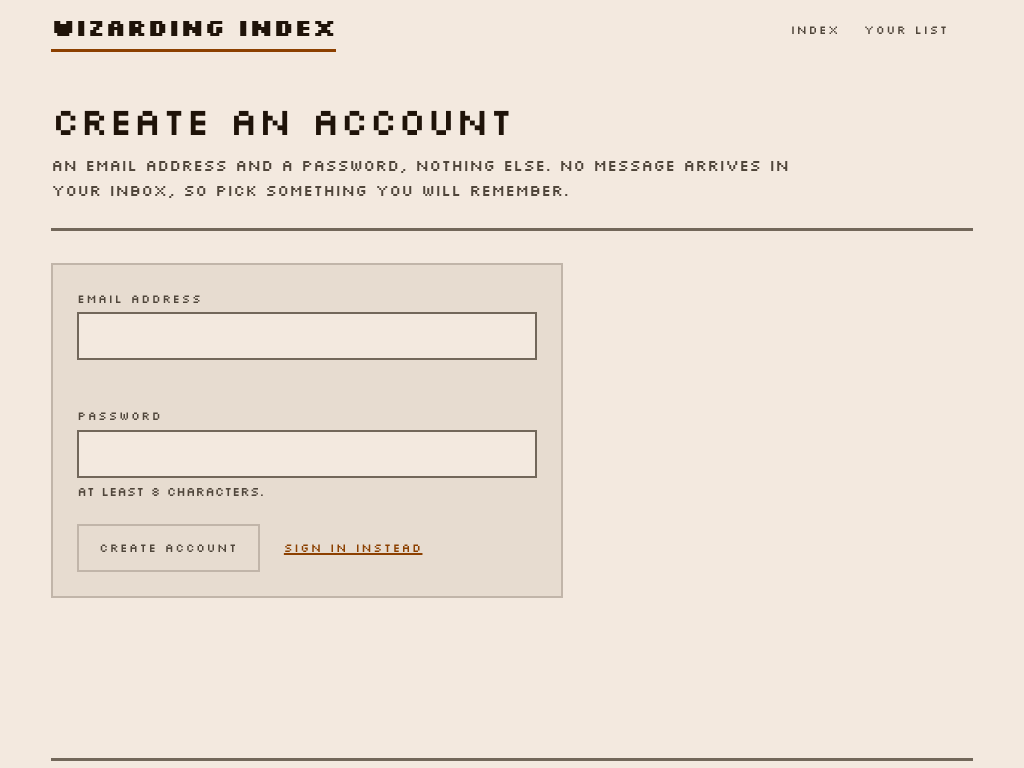
Test case: creating an account › asks for eight characters before it will send anything
Type "reader@example.com" into the field labelled "Email address" at [307, 336], box [77,312,537,360]
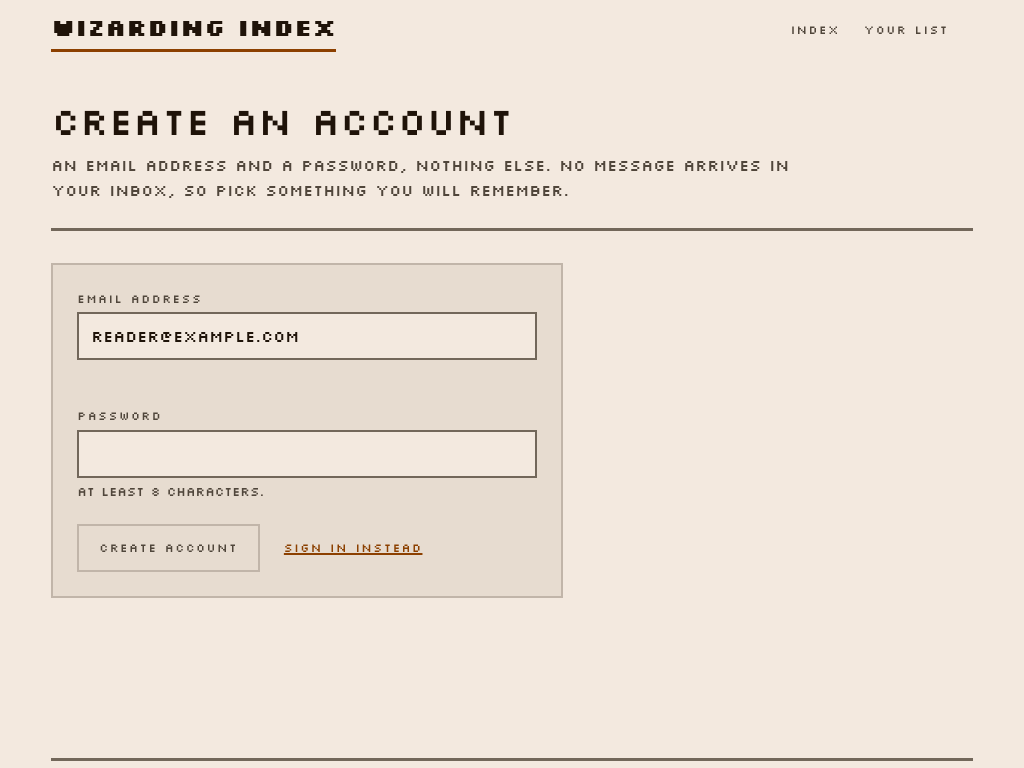
Type "short" into the password field labelled "Password" at [307, 454], box [77,430,537,478]
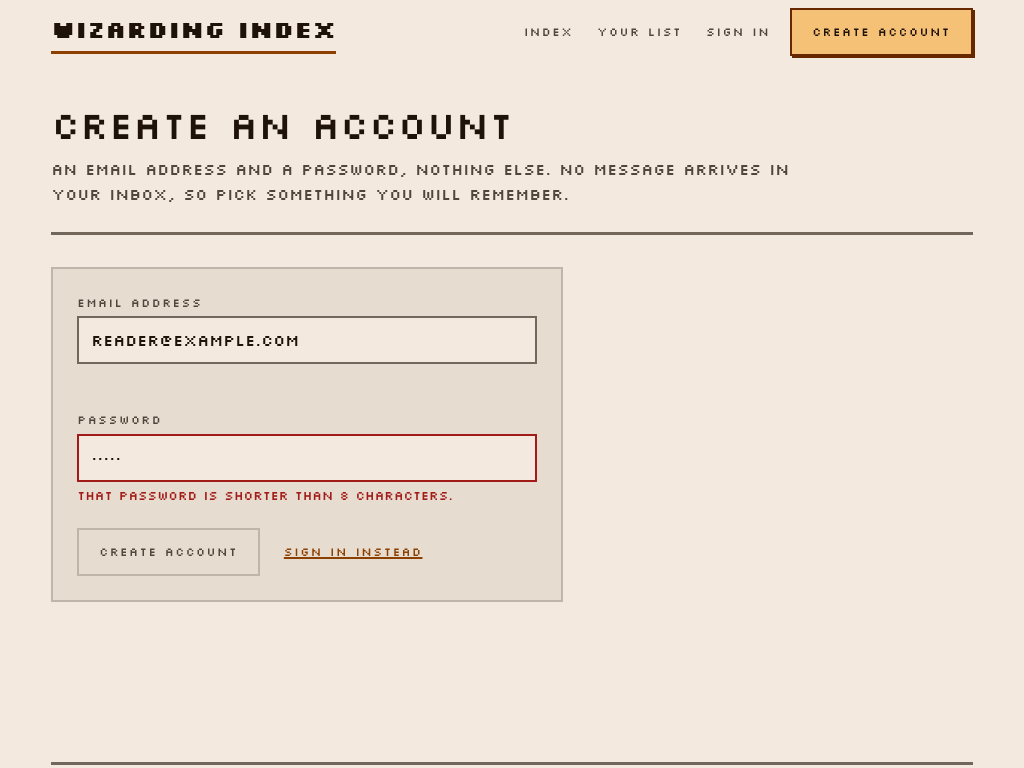
Expected: the button "Create account" is disabled, [77,528,260,576]
Expected: the text "That password is shorter than 8 characters." is shown, [77,487,453,503]
